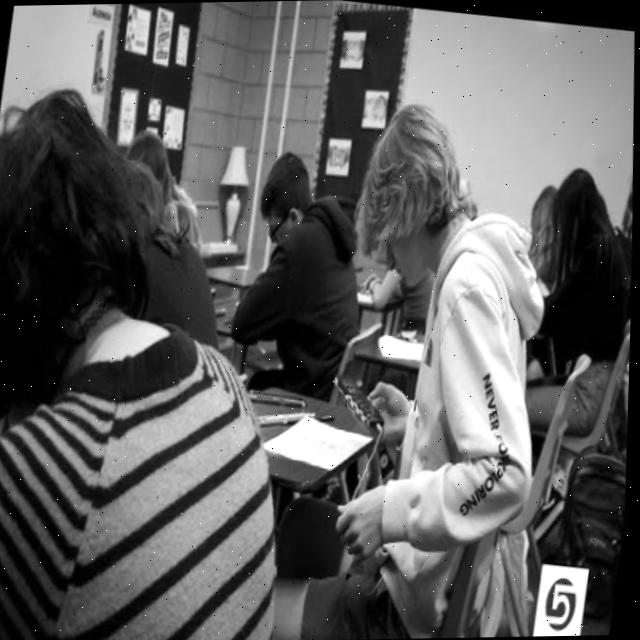phone: (331, 371, 393, 429)
